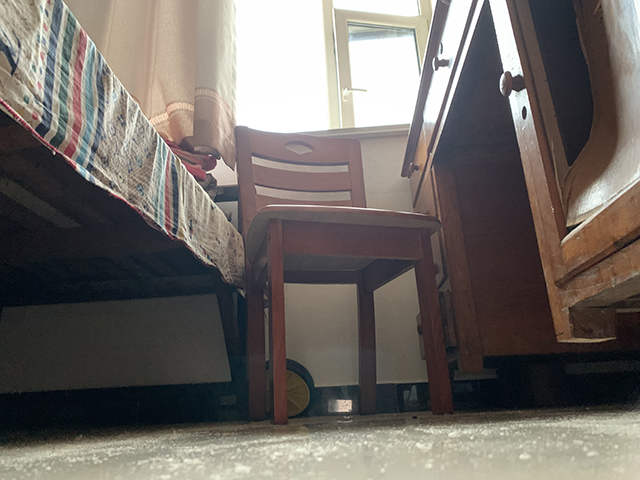bed: (1, 1, 249, 422)
stool: (230, 124, 455, 428)
table: (401, 1, 640, 411)
